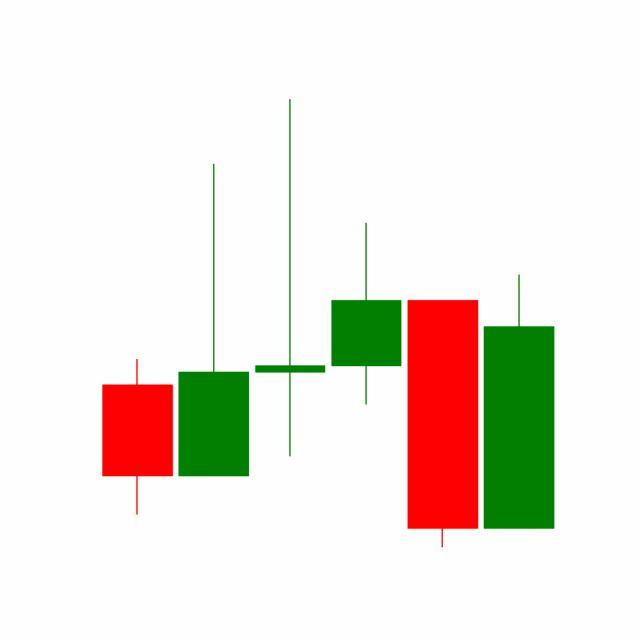Marubozu: (404, 298, 482, 551)
